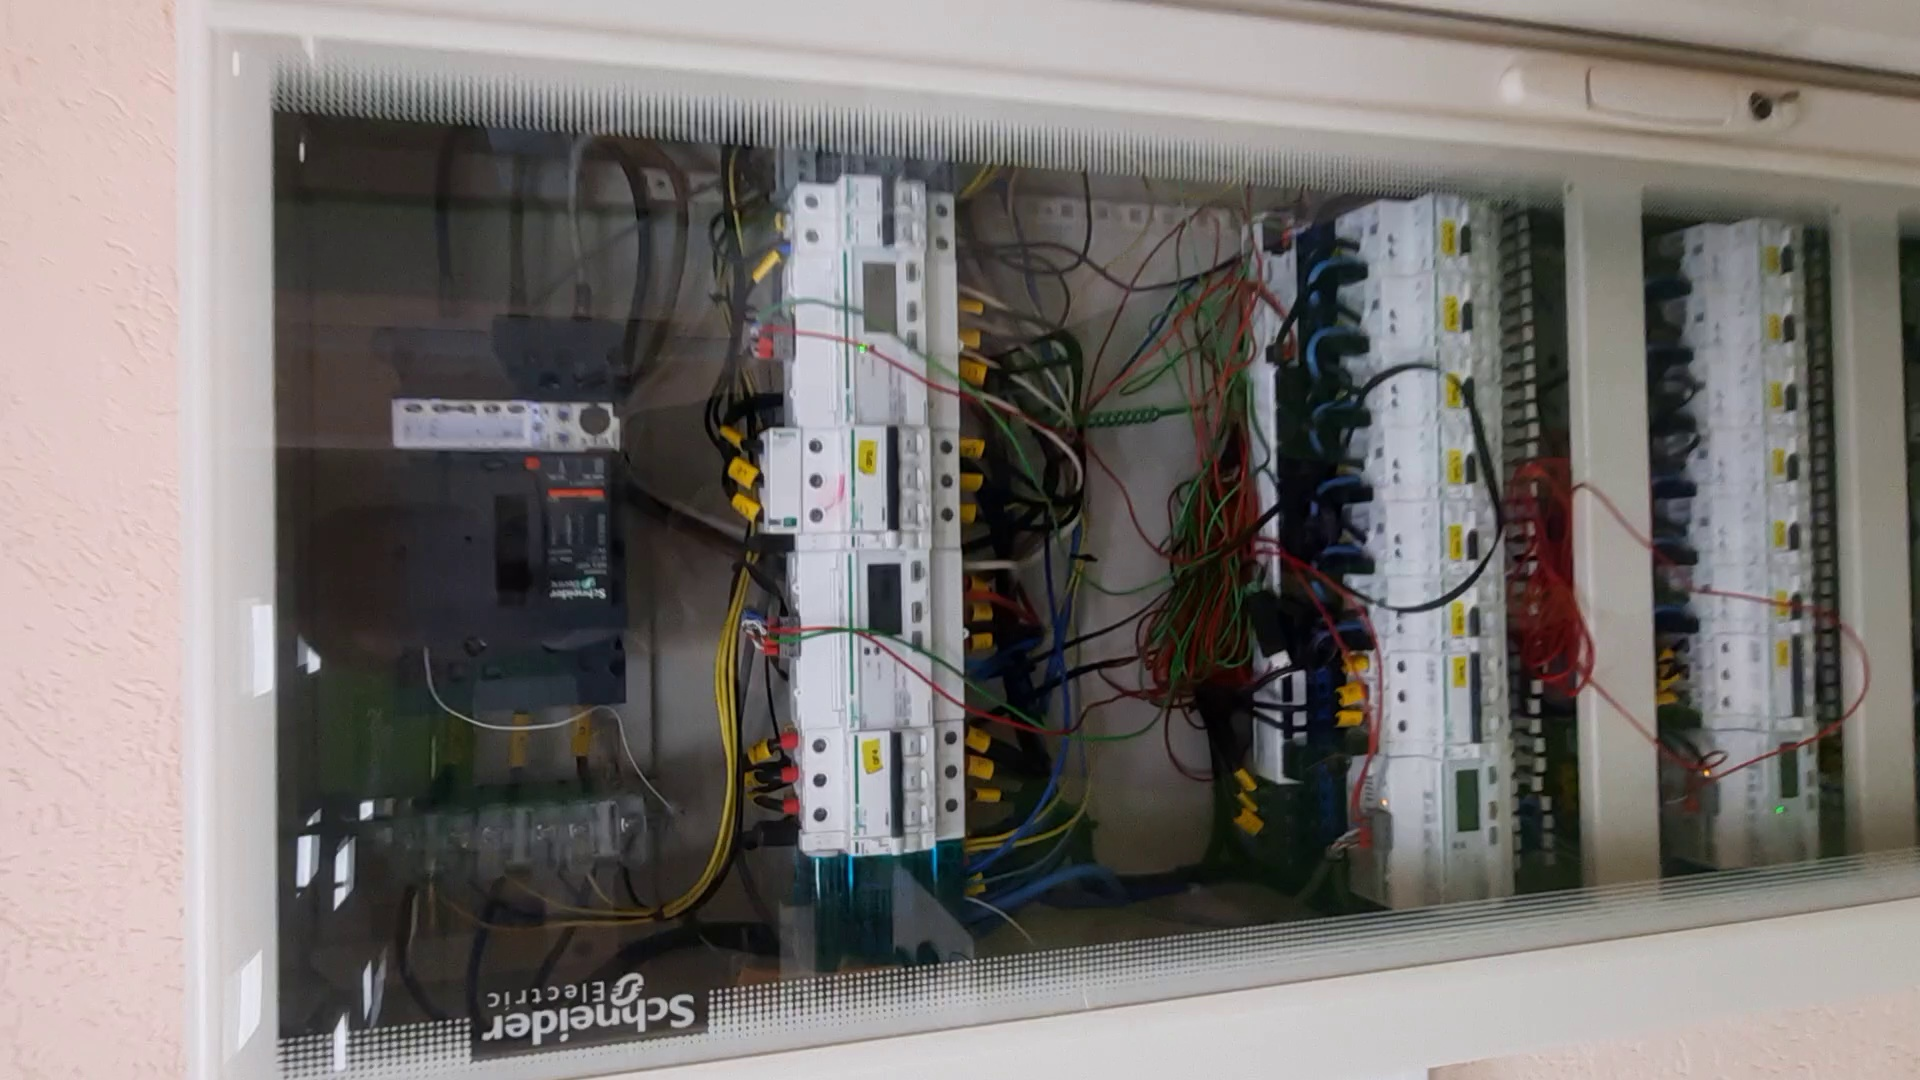stand1: (174, 3, 1920, 1080)
